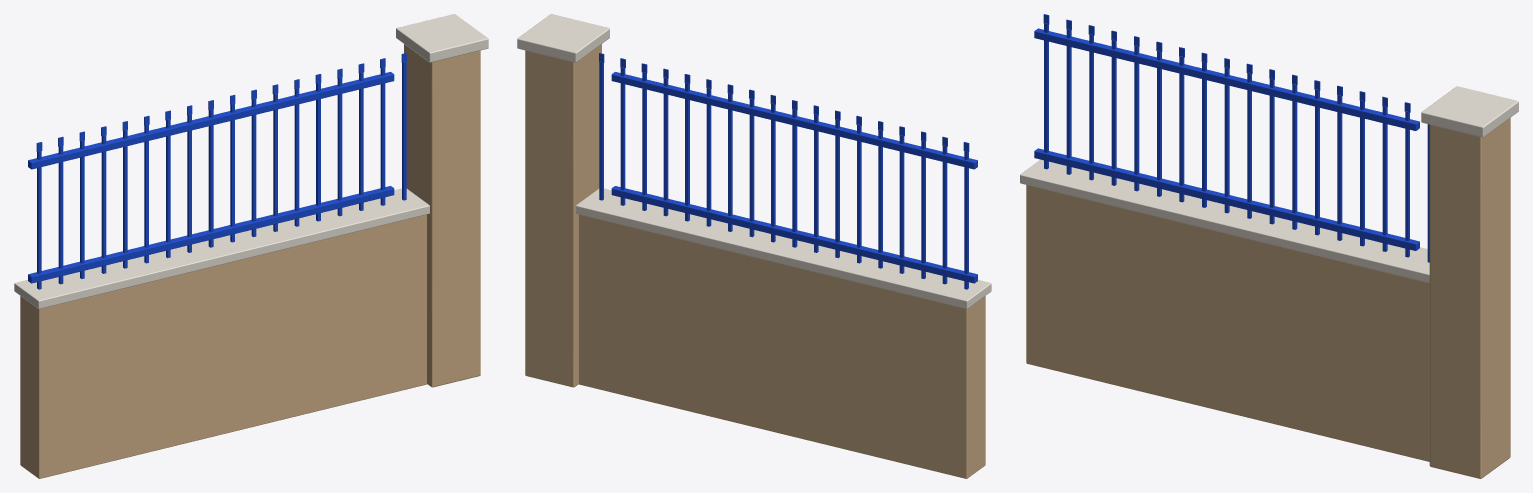
The model's file is fence.glb.
3 views of the same model, side by side, from view 1: azimuth 30°, elevation 25°; view 2: azimuth 150°, elevation 25°; view 3: azimuth 330°, elevation 25° (orthographic). The views are drawn at different scales.
Visible parts, largest first — view 1: fence; view 2: fence; view 3: fence.
Part boxes in pixels (x1,y1,x2,y2): fence: [14, 14, 488, 478]; fence: [517, 14, 991, 478]; fence: [1020, 14, 1518, 478].
Size of the model in its own units: 2.7 by 1.96 by 0.36.
